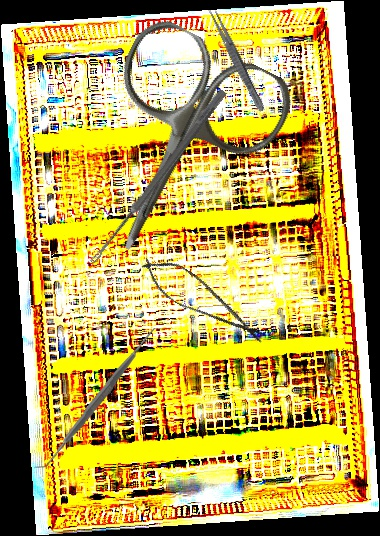Dressing Forceps: (205, 6, 268, 114)
Iris Scissors: (48, 11, 303, 287)
Micro Scissor: (133, 247, 274, 353)
Spatula Surgical: (29, 327, 169, 469)
Surgical Spoon: (89, 87, 227, 267)
